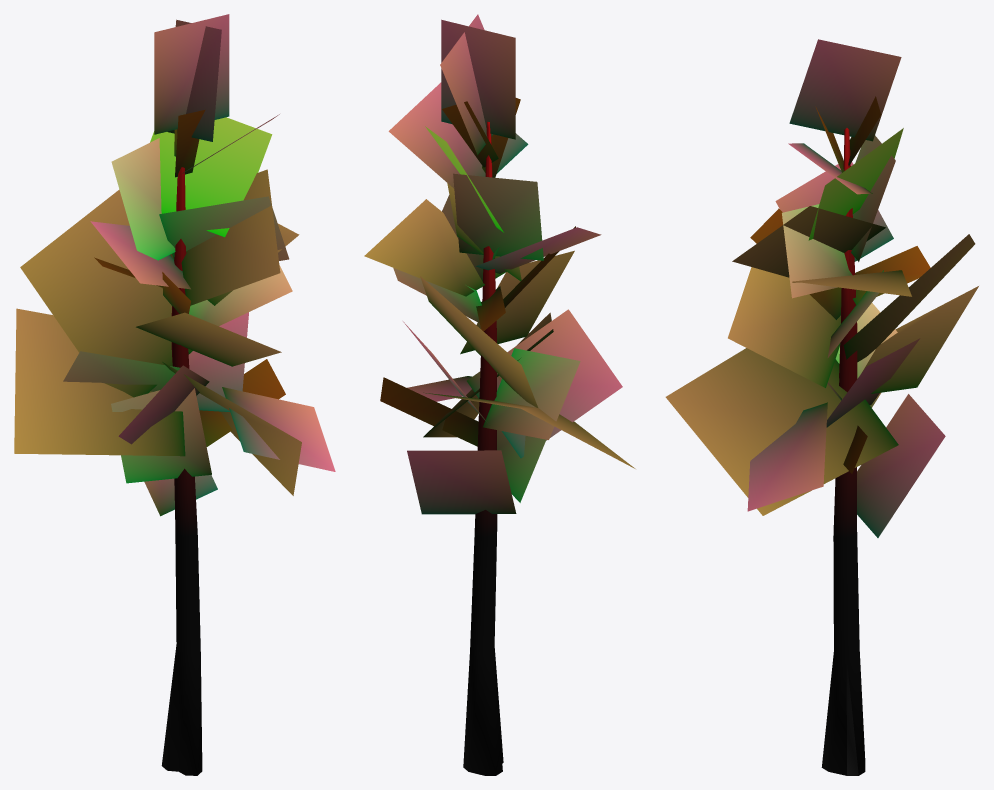
The model's file is swamp_birch_a_256.fbx.
3 views of the same model, side by side, from view 1: azimuth 30°, elevation 25°; view 2: azimuth 150°, elevation 25°; view 3: azimuth 270°, elevation 25° (orthographic).
Parts seen in each view (by area): view 1: birchleavesa256, birchtreea256; view 2: birchleavesa256, birchtreea256; view 3: birchleavesa256, birchtreea256.
Boxes of the visible parts, x1,y1,x2,y2 form: birchleavesa256: [14, 14, 335, 516]; birchtreea256: [161, 167, 202, 775]; birchleavesa256: [364, 14, 635, 514]; birchtreea256: [463, 121, 503, 775]; birchleavesa256: [665, 39, 978, 537]; birchtreea256: [821, 128, 865, 775].
Size of what is drawn, in the model's own units: 5.69 by 14.48 by 5.57.
